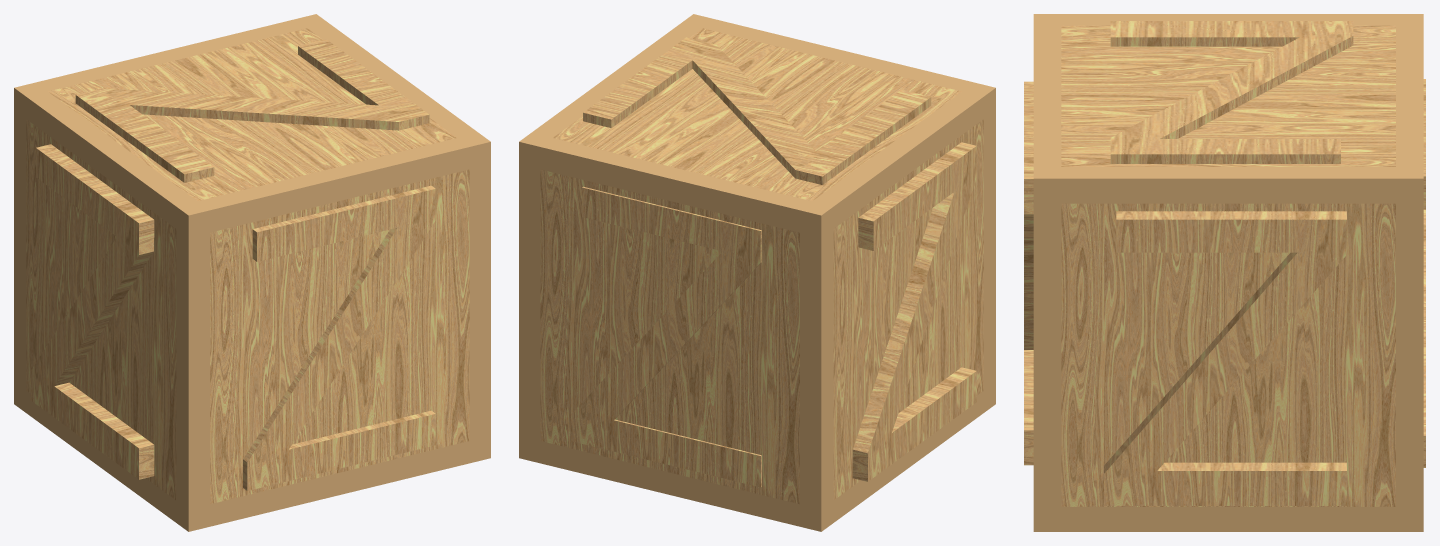
File: Block Z.fbx
3 views of the same model, side by side, from view 1: azimuth 30°, elevation 25°; view 2: azimuth 150°, elevation 25°; view 3: azimuth 270°, elevation 25° (orthographic). The views are drawn at different scales.
Parts seen in each view (by area): view 1: Box, FRONT, LEFT, TOP; view 2: Box, BACK, LEFT, TOP; view 3: Box, RIGHT, TOP, FRONT, BACK.
Boxes of the visible parts, x1,y1,x2,y2 form: Box: (14, 14, 490, 531); FRONT: (243, 185, 435, 490); LEFT: (30, 144, 154, 479); TOP: (75, 39, 429, 182); Box: (519, 14, 995, 531); BACK: (572, 186, 761, 487); LEFT: (852, 142, 976, 481); TOP: (583, 37, 931, 184); Box: (1033, 14, 1423, 531); RIGHT: (1104, 211, 1346, 505); TOP: (1110, 21, 1353, 163); FRONT: (1024, 81, 1033, 465); BACK: (1423, 79, 1425, 467).
Size of the model in its own units: 1.1 by 1.04 by 1.03.
Materials: 2 (2 with a texture image).
